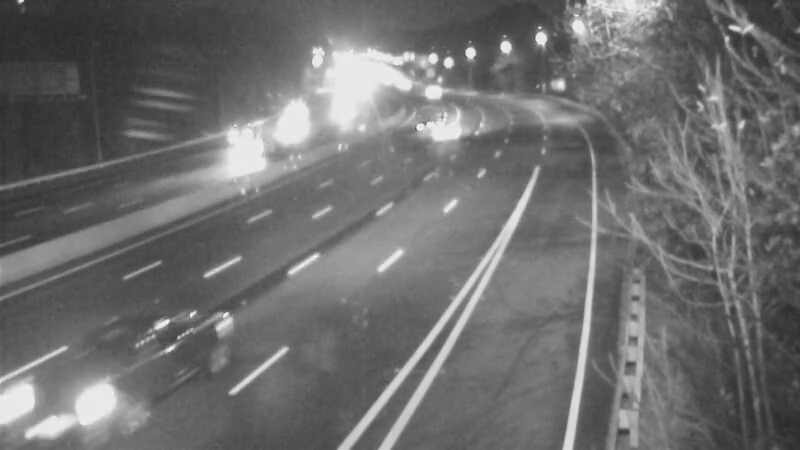vehicle: (12, 347, 122, 450), (400, 80, 450, 130), (425, 100, 475, 150), (210, 122, 260, 172), (257, 107, 307, 157), (318, 78, 368, 128)
